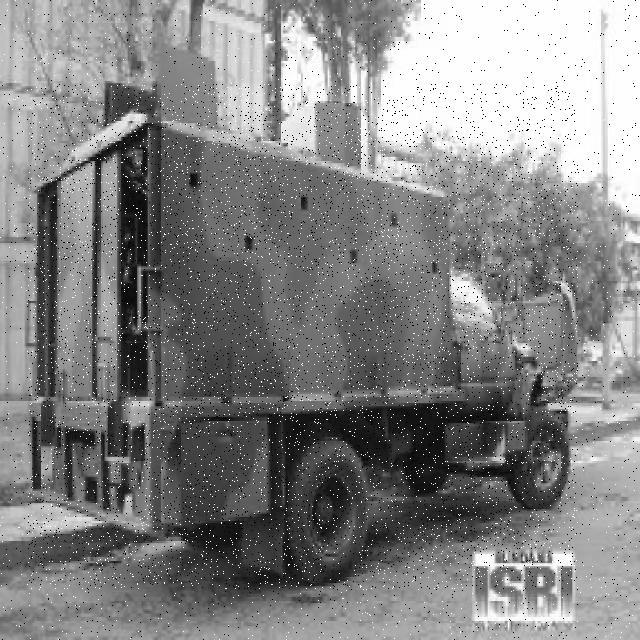Box Truck: (27, 84, 578, 589)
